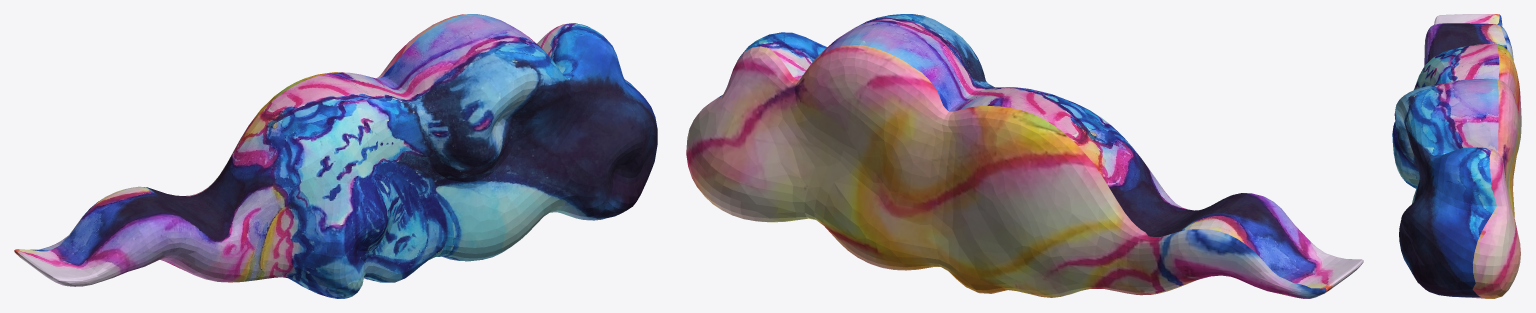
File: cloud4.fbx
The picture shows the model from 3 angles, left to right: view 1: azimuth 30°, elevation 25°; view 2: azimuth 150°, elevation 25°; view 3: azimuth 270°, elevation 25°; orthographic projection. The views are drawn at different scales.
Visible parts, largest first — view 1: CLOUD_LOW POLLY; view 2: CLOUD_LOW POLLY; view 3: CLOUD_LOW POLLY.
Boxes of the visible parts, left/top/right/bottom form: CLOUD_LOW POLLY: left=14, top=14, right=657, bottom=298; CLOUD_LOW POLLY: left=686, top=14, right=1363, bottom=298; CLOUD_LOW POLLY: left=1392, top=14, right=1521, bottom=298.
Size of the model in its own units: 27.66 by 124 by 41.99.
